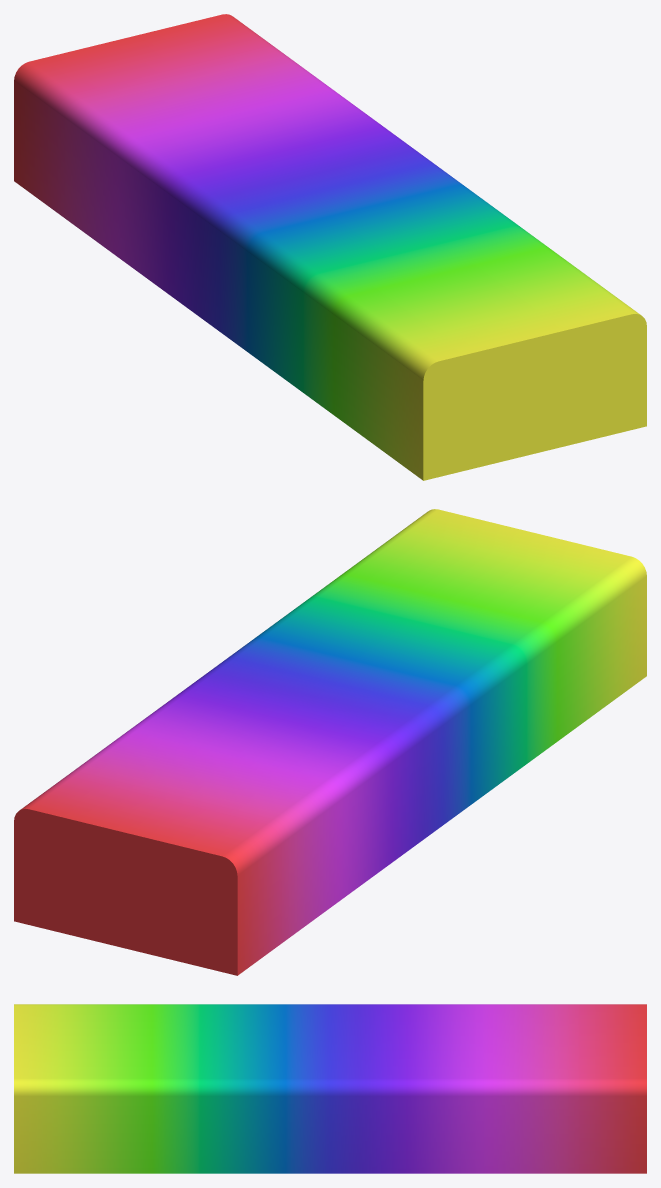
File: COLORFULTEST (1).fbx
The picture shows the model from 3 angles, top to bottom: view 1: azimuth 30°, elevation 25°; view 2: azimuth 150°, elevation 25°; view 3: azimuth 270°, elevation 25°; orthographic projection. The views are drawn at different scales.
Visible parts, largest first — view 1: Cube; view 2: Cube; view 3: Cube.
Boxes of the visible parts, bbox=[...] form: Cube: bbox=[14, 14, 646, 480]; Cube: bbox=[14, 509, 646, 975]; Cube: bbox=[14, 1004, 646, 1173].
Bounding box in the file's own units: 284 × 141 × 901.
Materials: 1 (1 with a texture image).
